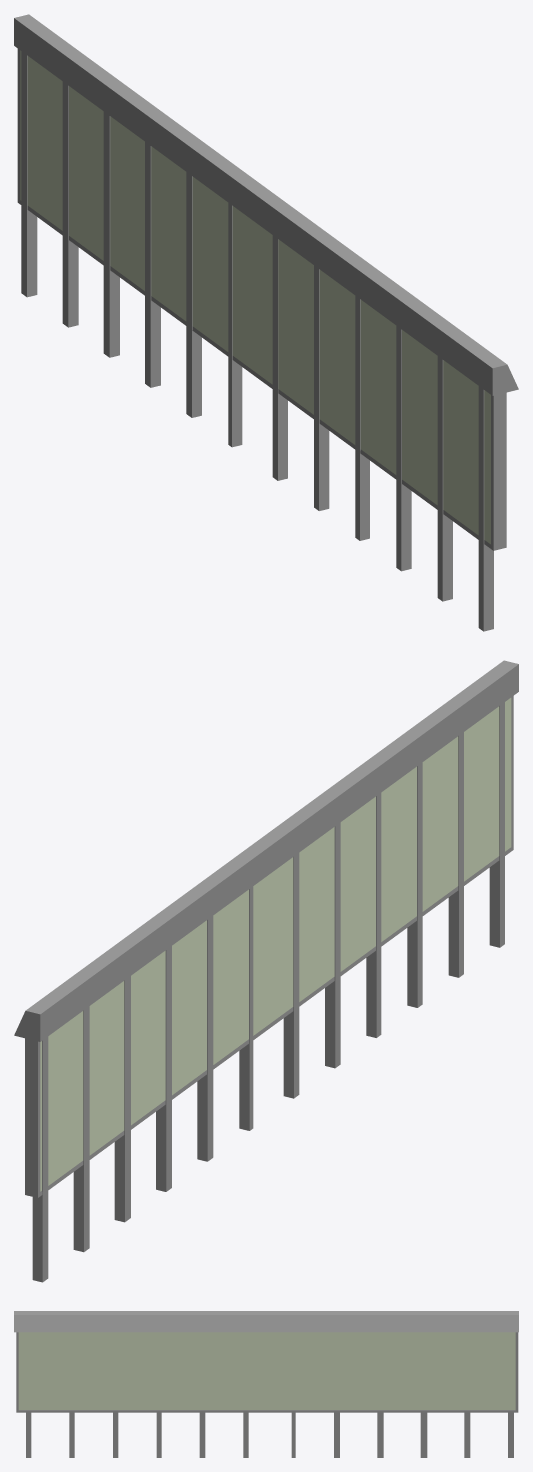
File: keizi_board.fbx
3 renders of one model, top to bottom at view 1: azimuth 30°, elevation 25°; view 2: azimuth 150°, elevation 25°; view 3: azimuth 270°, elevation 25°, orthographic. The views are drawn at different scales.
Visible parts, largest first — view 1: Cube, 立方体.012, 立方体.007, 立方体.006, 立方体.008, 立方体.009, 立方体.002, 立方体.003, 立方体.004, 立方体.011, 立方体, 立方体.005 (+2 smaller); view 2: Cube, 立方体.012, 立方体.008, 立方体.009, 立方体.007, 立方体.006, 立方体.002, 立方体, 立方体.011, 立方体.001, 立方体.005, 立方体.003 (+2 smaller); view 3: Cube, 立方体.012, 立方体.007, 立方体.011, 立方体.006, 立方体, 立方体.002, 立方体.003, 立方体.008, 立方体.009, 立方体.001, 立方体.004 (+2 smaller).
Boxes of the visible parts, x1=… form: Cube: x1=17, y1=48, x2=506, y2=550; 立方体.012: x1=14, y1=14, x2=518, y2=395; 立方体.007: x1=103, y1=111, x2=119, y2=357; 立方体.006: x1=62, y1=81, x2=78, y2=327; 立方体.008: x1=21, y1=51, x2=37, y2=297; 立方体.009: x1=186, y1=172, x2=201, y2=417; 立方体.002: x1=272, y1=235, x2=287, y2=480; 立方体.003: x1=437, y1=356, x2=452, y2=601; 立方体.004: x1=478, y1=386, x2=493, y2=631; 立方体.011: x1=145, y1=142, x2=160, y2=387; 立方体: x1=314, y1=265, x2=329, y2=510; 立方体.005: x1=396, y1=326, x2=411, y2=571; Cube: x1=25, y1=696, x2=513, y2=1197; 立方体.012: x1=14, y1=660, x2=518, y2=1041; 立方体.008: x1=32, y1=1036, x2=48, y2=1282; 立方体.009: x1=197, y1=916, x2=213, y2=1161; 立方体.007: x1=114, y1=976, x2=130, y2=1222; 立方体.006: x1=73, y1=1006, x2=89, y2=1252; 立方体.002: x1=283, y1=853, x2=299, y2=1098; 立方体: x1=325, y1=822, x2=340, y2=1068; 立方体.011: x1=156, y1=946, x2=171, y2=1191; 立方体.001: x1=366, y1=793, x2=381, y2=1037; 立方体.005: x1=407, y1=762, x2=422, y2=1007; 立方体.003: x1=448, y1=732, x2=463, y2=977; Cube: x1=16, y1=1332, x2=518, y2=1412; 立方体.012: x1=14, y1=1311, x2=518, y2=1332; 立方体.007: x1=420, y1=1412, x2=427, y2=1457; 立方体.011: x1=377, y1=1412, x2=383, y2=1457; 立方体.006: x1=464, y1=1412, x2=470, y2=1457; 立方体: x1=199, y1=1412, x2=205, y2=1457; 立方体.002: x1=243, y1=1412, x2=248, y2=1457; 立方体.003: x1=69, y1=1412, x2=74, y2=1457; 立方体.008: x1=508, y1=1412, x2=513, y2=1457; 立方体.009: x1=334, y1=1412, x2=339, y2=1457; 立方体.001: x1=156, y1=1412, x2=161, y2=1457; 立方体.004: x1=26, y1=1412, x2=31, y2=1457.
Bounding box in the file's own units: 18.79 × 185 × 589.
